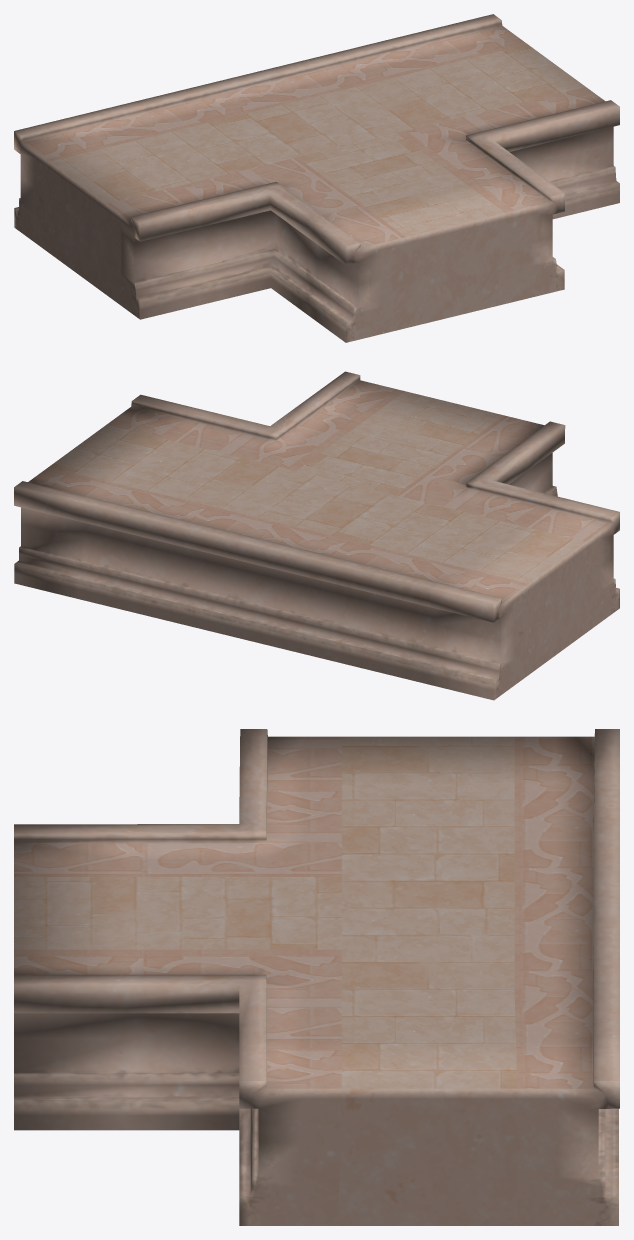
File: t行路段.fbx
3 views of the same model, one above another, from view 1: azimuth 30°, elevation 25°; view 2: azimuth 150°, elevation 25°; view 3: azimuth 270°, elevation 25° (orthographic). The views are drawn at different scales.
Visible parts, largest first — view 1: 平面.008; view 2: 平面.008; view 3: 平面.008.
Part boxes in pixels (x1,y1,x2,y2): 平面.008: (14, 14, 619, 342); 平面.008: (14, 371, 619, 700); 平面.008: (14, 729, 619, 1225).
Bounding box in the file's own units: 678 × 130 × 493.
